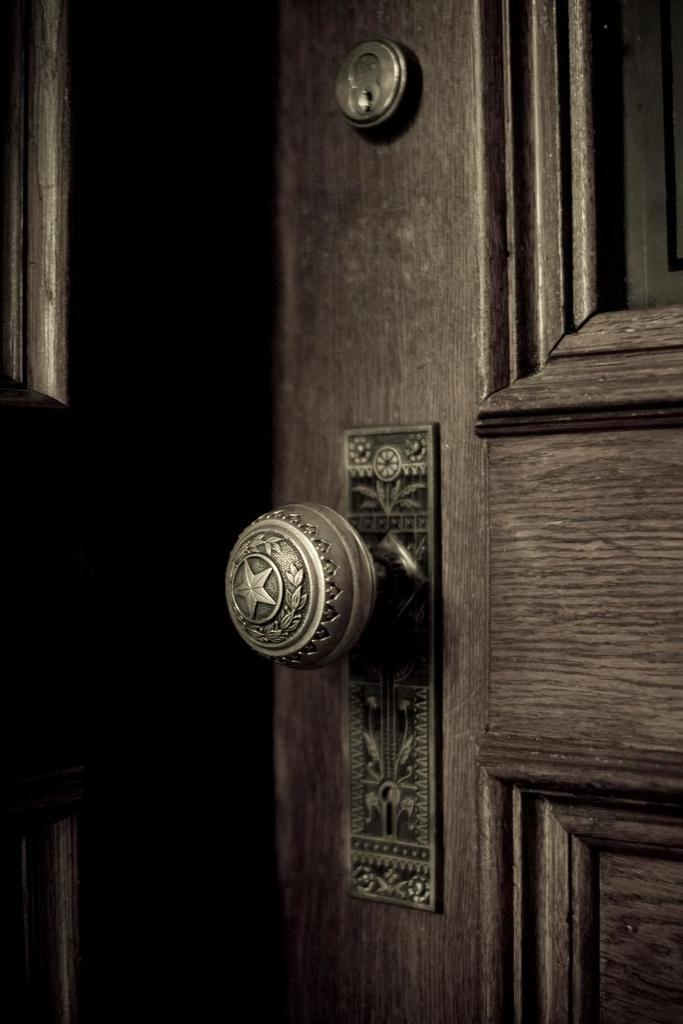handle: (216, 476, 378, 684)
